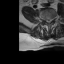CCS_severe_stenosis: (48, 17, 49, 25)
LFS_normal: (51, 16, 53, 23)
LLS_normal: (49, 17, 51, 24)
RFS_normal: (44, 16, 46, 22)
RLS_normal: (46, 17, 48, 24)
